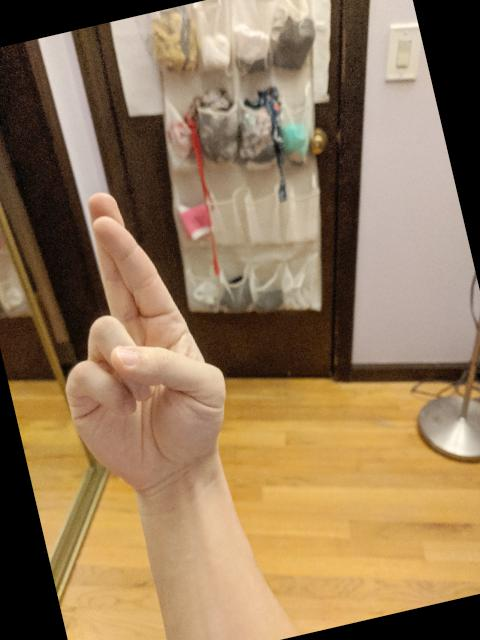R: (16, 166, 250, 507)
